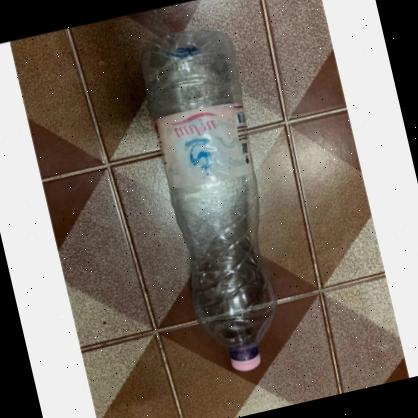bottle: (129, 19, 307, 380)
cap: (229, 347, 264, 373)
label: (153, 97, 260, 192)
